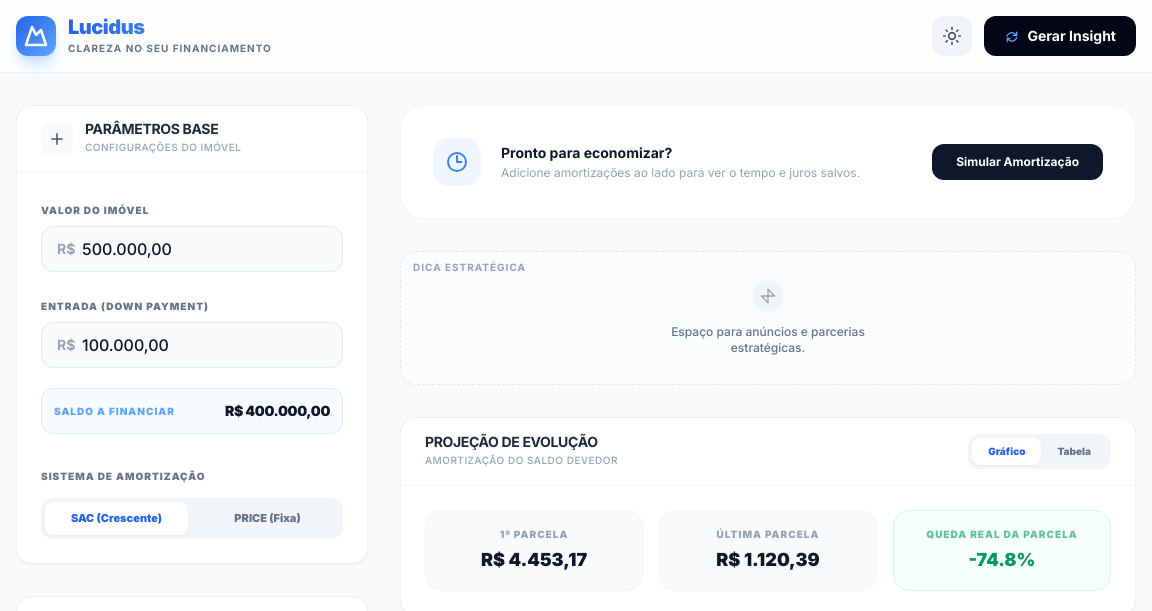
App Component (Acceptance Tests) › should show the simulated amortization section when added
Click the button "Simular Amortização".
click(1018, 162)  # box [932,144,1103,180]
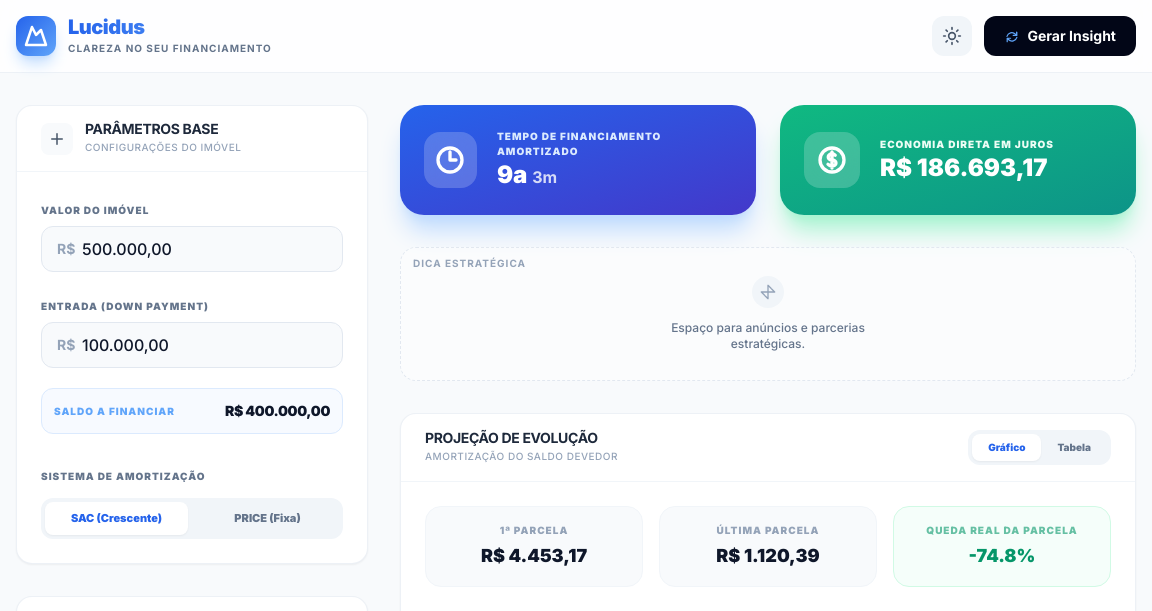
expect the text "Tempo de Financiamento Amortizado" is shown: met, box [497,130,661,157]
